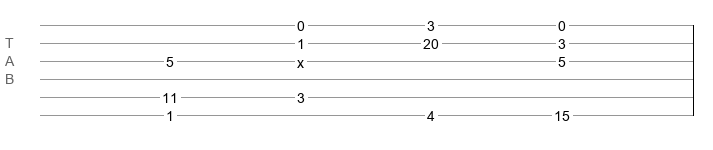0: (297, 18, 305, 28), (558, 18, 566, 28)
1: (166, 108, 174, 118), (297, 36, 305, 46)
11: (162, 90, 178, 100)
15: (554, 108, 570, 118)
20: (423, 36, 439, 46)
3: (297, 90, 305, 100), (427, 18, 435, 28), (558, 36, 566, 46)
4: (427, 108, 435, 118)
5: (166, 54, 174, 64), (558, 54, 566, 64)
x: (297, 55, 304, 63)
